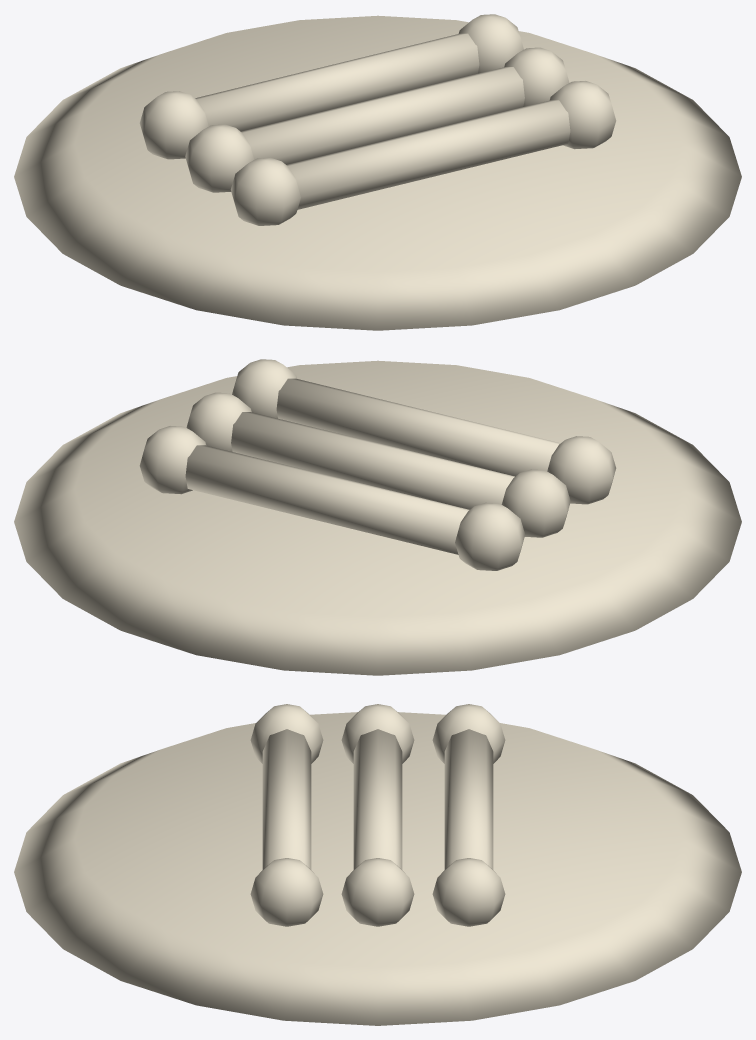
The model's file is serving_bone_plate.glb.
3 renders of one model, top to bottom at view 1: azimuth 30°, elevation 25°; view 2: azimuth 150°, elevation 25°; view 3: azimuth 270°, elevation 25°, orthographic.
Visible parts, largest first — view 1: GD_serving_bone_plate__m0; view 2: GD_serving_bone_plate__m0; view 3: GD_serving_bone_plate__m0.
Part boxes in pixels (left/top/right/bottom): GD_serving_bone_plate__m0: left=14, top=14, right=741, bottom=330; GD_serving_bone_plate__m0: left=14, top=359, right=741, bottom=675; GD_serving_bone_plate__m0: left=14, top=704, right=741, bottom=1025.
Size of the model in its own units: 0.24 by 0.032 by 0.24.
